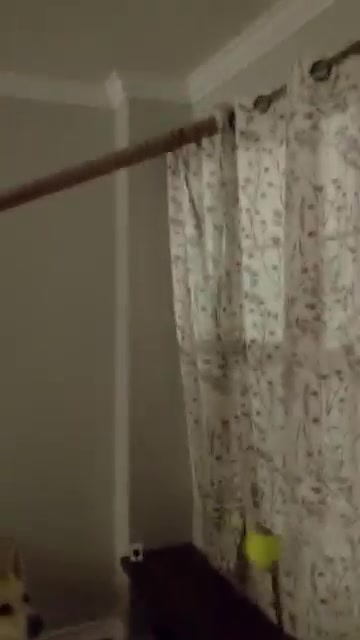tennis_ball: (245, 528, 284, 571)
